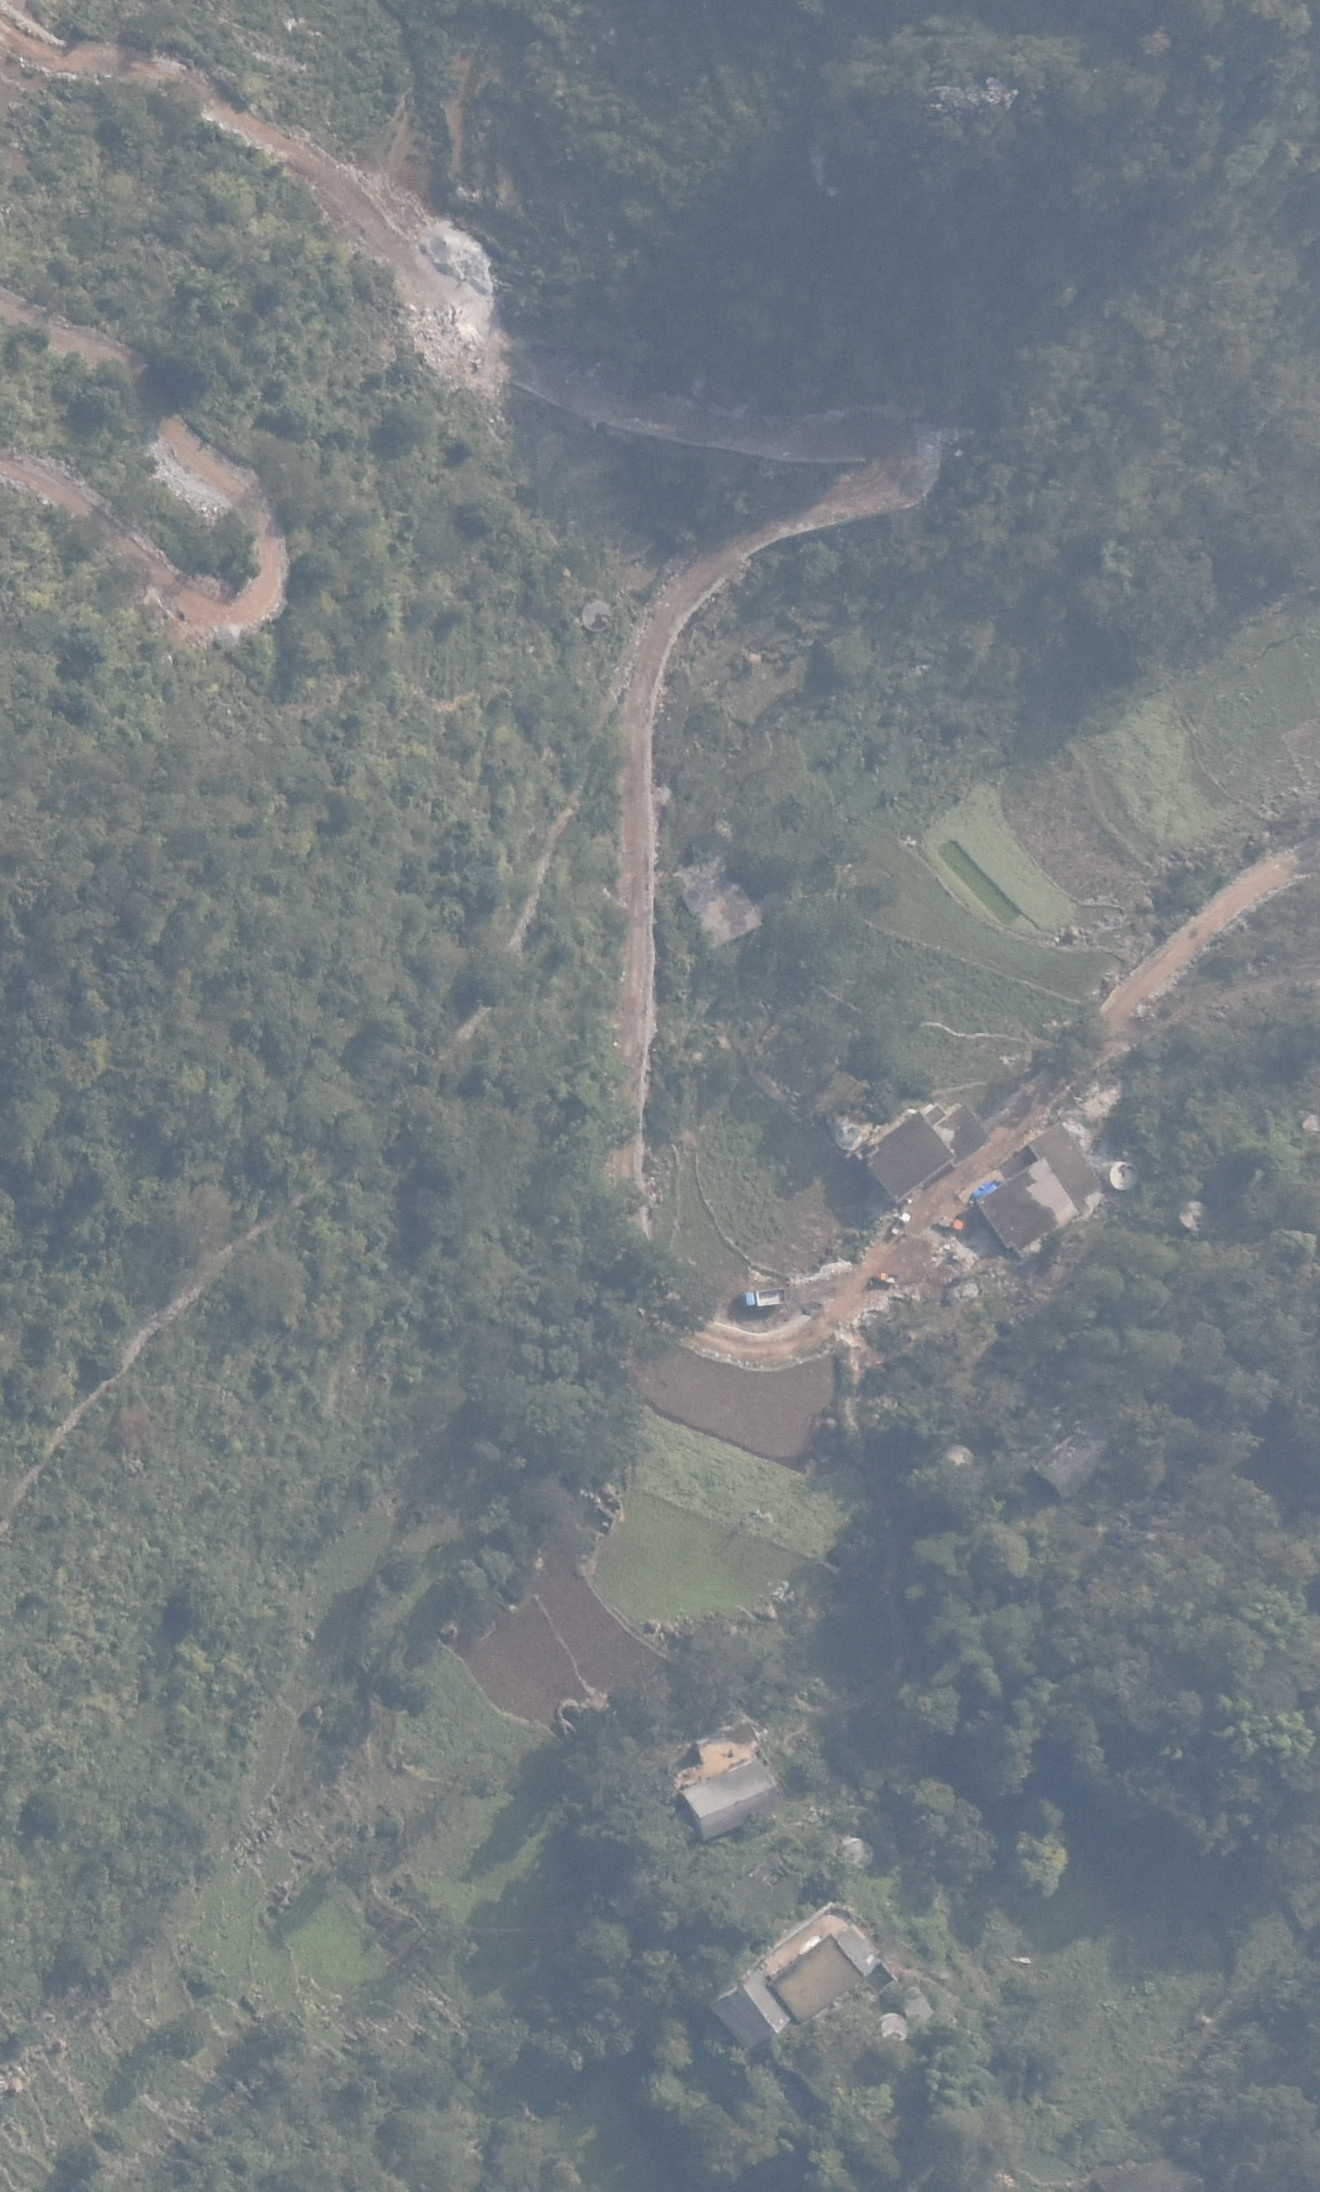building: (718, 1903, 881, 2050), (981, 1116, 1104, 1263), (853, 1093, 996, 1206), (667, 853, 780, 946), (682, 1757, 791, 1843), (1033, 1428, 1117, 1497)
quarry: (393, 212, 527, 407)
vehicle: (744, 1288, 788, 1308), (892, 1210, 910, 1236), (937, 1214, 966, 1230), (873, 1271, 899, 1285)
well: (1101, 1153, 1149, 1193), (837, 1833, 874, 1871), (876, 2010, 911, 2050), (580, 599, 615, 635), (1176, 1199, 1214, 1230)
